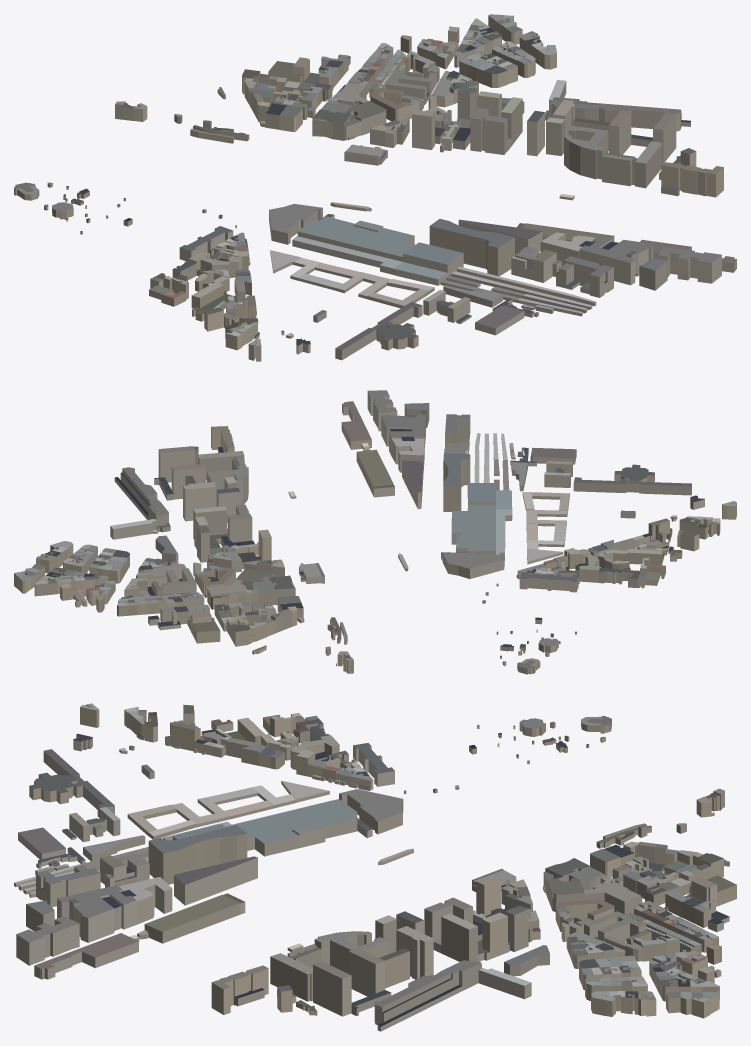
The picture shows the model from 3 angles, top to bottom: view 1: azimuth 30°, elevation 25°; view 2: azimuth 150°, elevation 25°; view 3: azimuth 270°, elevation 25°; orthographic projection. The views are drawn at different scales.
Visible parts, largest first — view 1: tuile; view 2: tuile; view 3: tuile.
Boxes of the visible parts, bbox=[...] form: tuile: bbox=[14, 14, 736, 361]; tuile: bbox=[14, 390, 736, 674]; tuile: bbox=[14, 703, 736, 1031].
Bounding box in the file's own units: 1082 × 75.78 × 1057.
